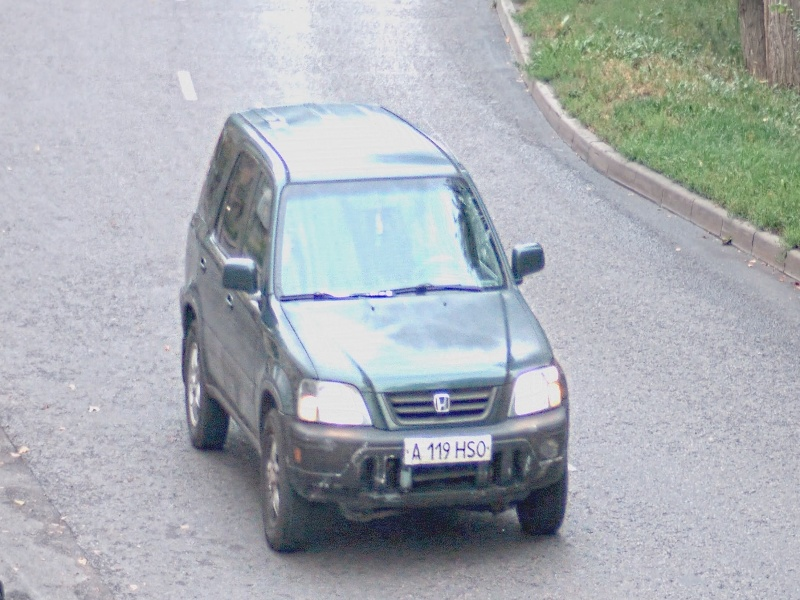plate: (403, 433, 493, 466)
